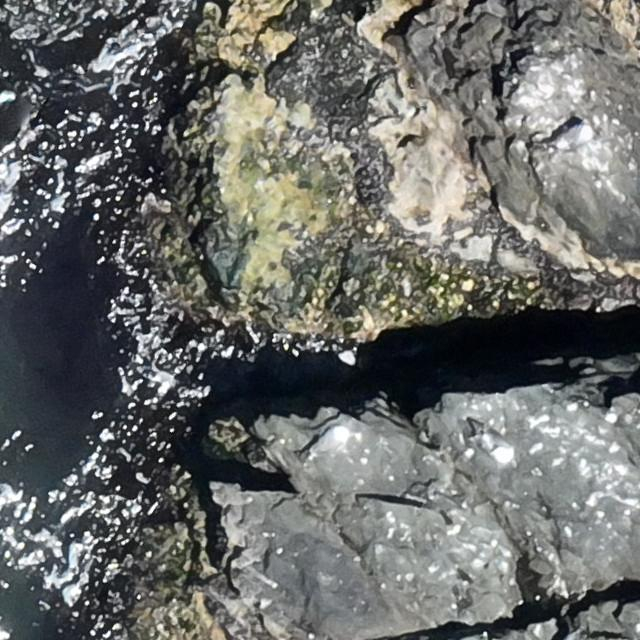umineko: (471, 423, 513, 463), (302, 426, 348, 460), (547, 126, 591, 152)
